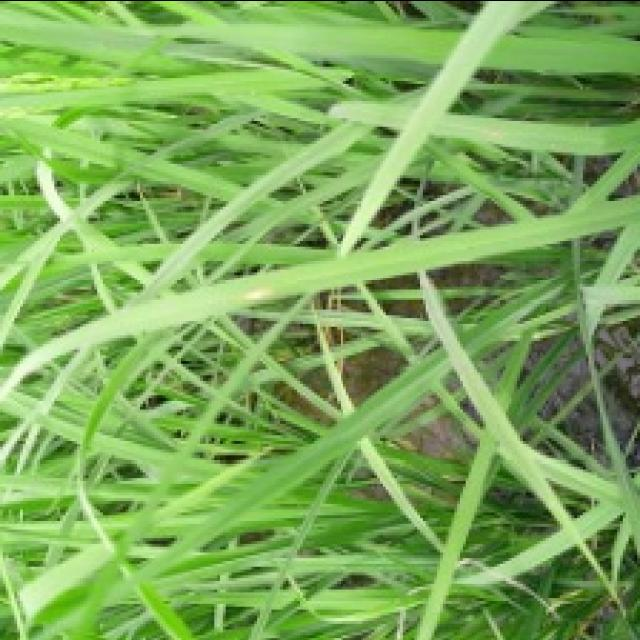Unhealthy: (242, 283, 274, 298)
